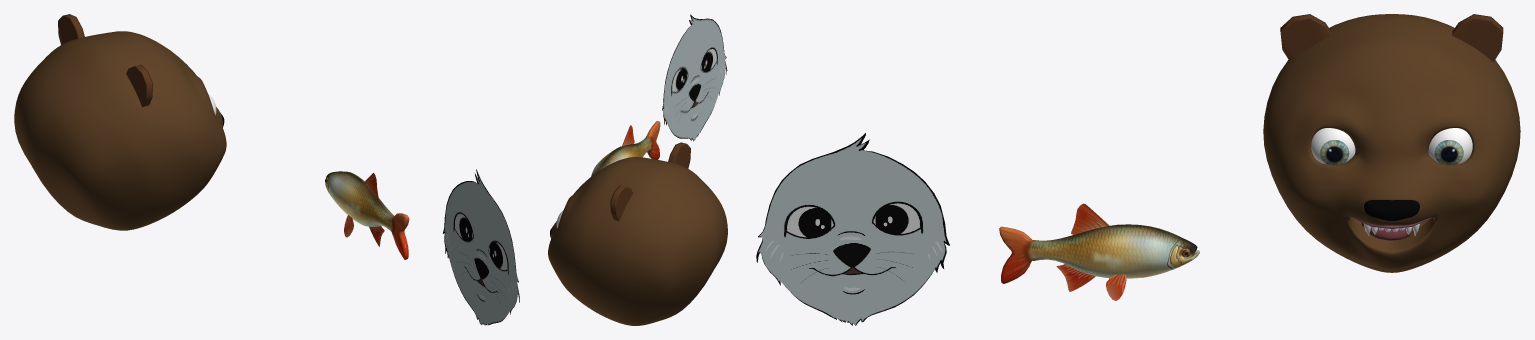
The model's file is mask.glb.
3 renders of one model, left to right at view 1: azimuth 30°, elevation 25°; view 2: azimuth 150°, elevation 25°; view 3: azimuth 270°, elevation 25°, orthographic. The views are drawn at different scales.
Visible parts, largest first — view 1: Plane.005, Plane, Plane.004, Cube.002; view 2: Plane.005, Plane, Plane.004, Cube.002; view 3: Plane.005, Plane, Plane.004, Cube.002, Sphere.002.
Boxes of the visible parts, x1=… form: Plane.005: x1=14, y1=31, x2=226, y2=230; Plane: x1=443, y1=169, x2=519, y2=325; Plane.004: x1=325, y1=171, x2=409, y2=259; Cube.002: x1=58, y1=14, x2=153, y2=107; Plane.005: x1=548, y1=157, x2=727, y2=325; Plane: x1=662, y1=14, x2=727, y2=141; Plane.004: x1=591, y1=121, x2=660, y2=176; Cube.002: x1=610, y1=142, x2=690, y2=221; Plane.005: x1=1263, y1=14, x2=1520, y2=272; Plane: x1=756, y1=133, x2=949, y2=325; Plane.004: x1=999, y1=203, x2=1199, y2=300; Cube.002: x1=1280, y1=14, x2=1503, y2=62; Sphere.002: x1=1311, y1=128, x2=1472, y2=164.
Bounding box in the file's own units: 15.57 × 11.42 × 34.27.
Materials: 14 (8 with a texture image).
